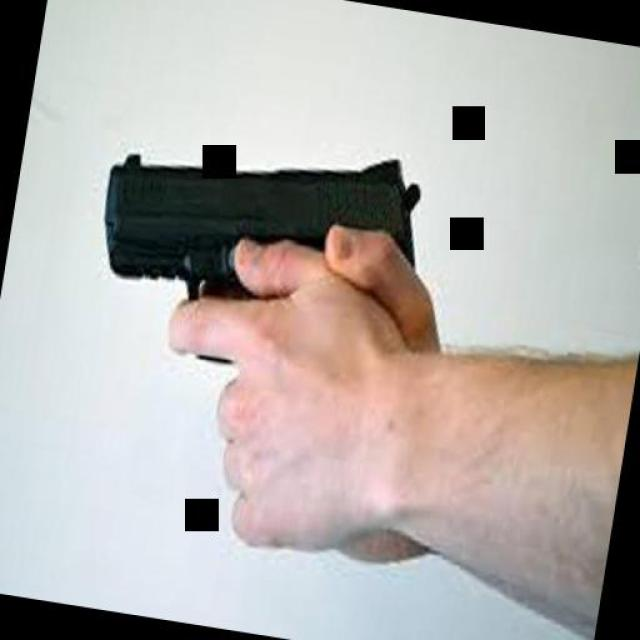gun: (66, 69, 452, 401)
